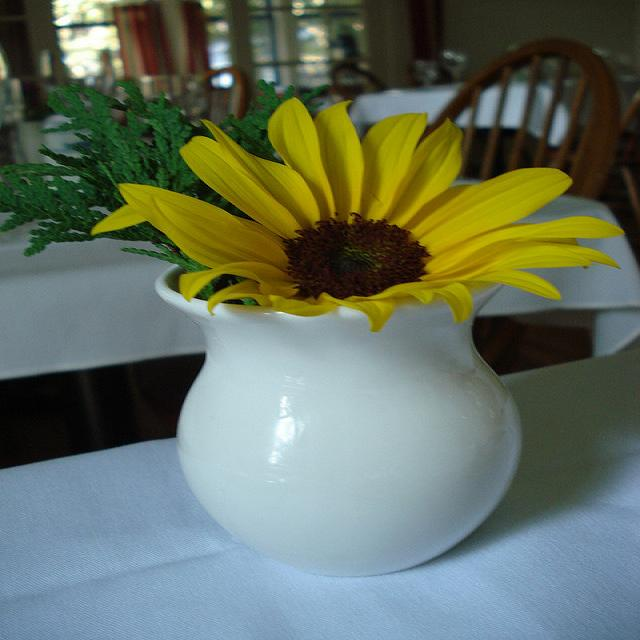chair: (428, 35, 625, 197), (327, 62, 388, 102)
dining table: (2, 329, 640, 632), (2, 175, 606, 387), (349, 50, 469, 140)
